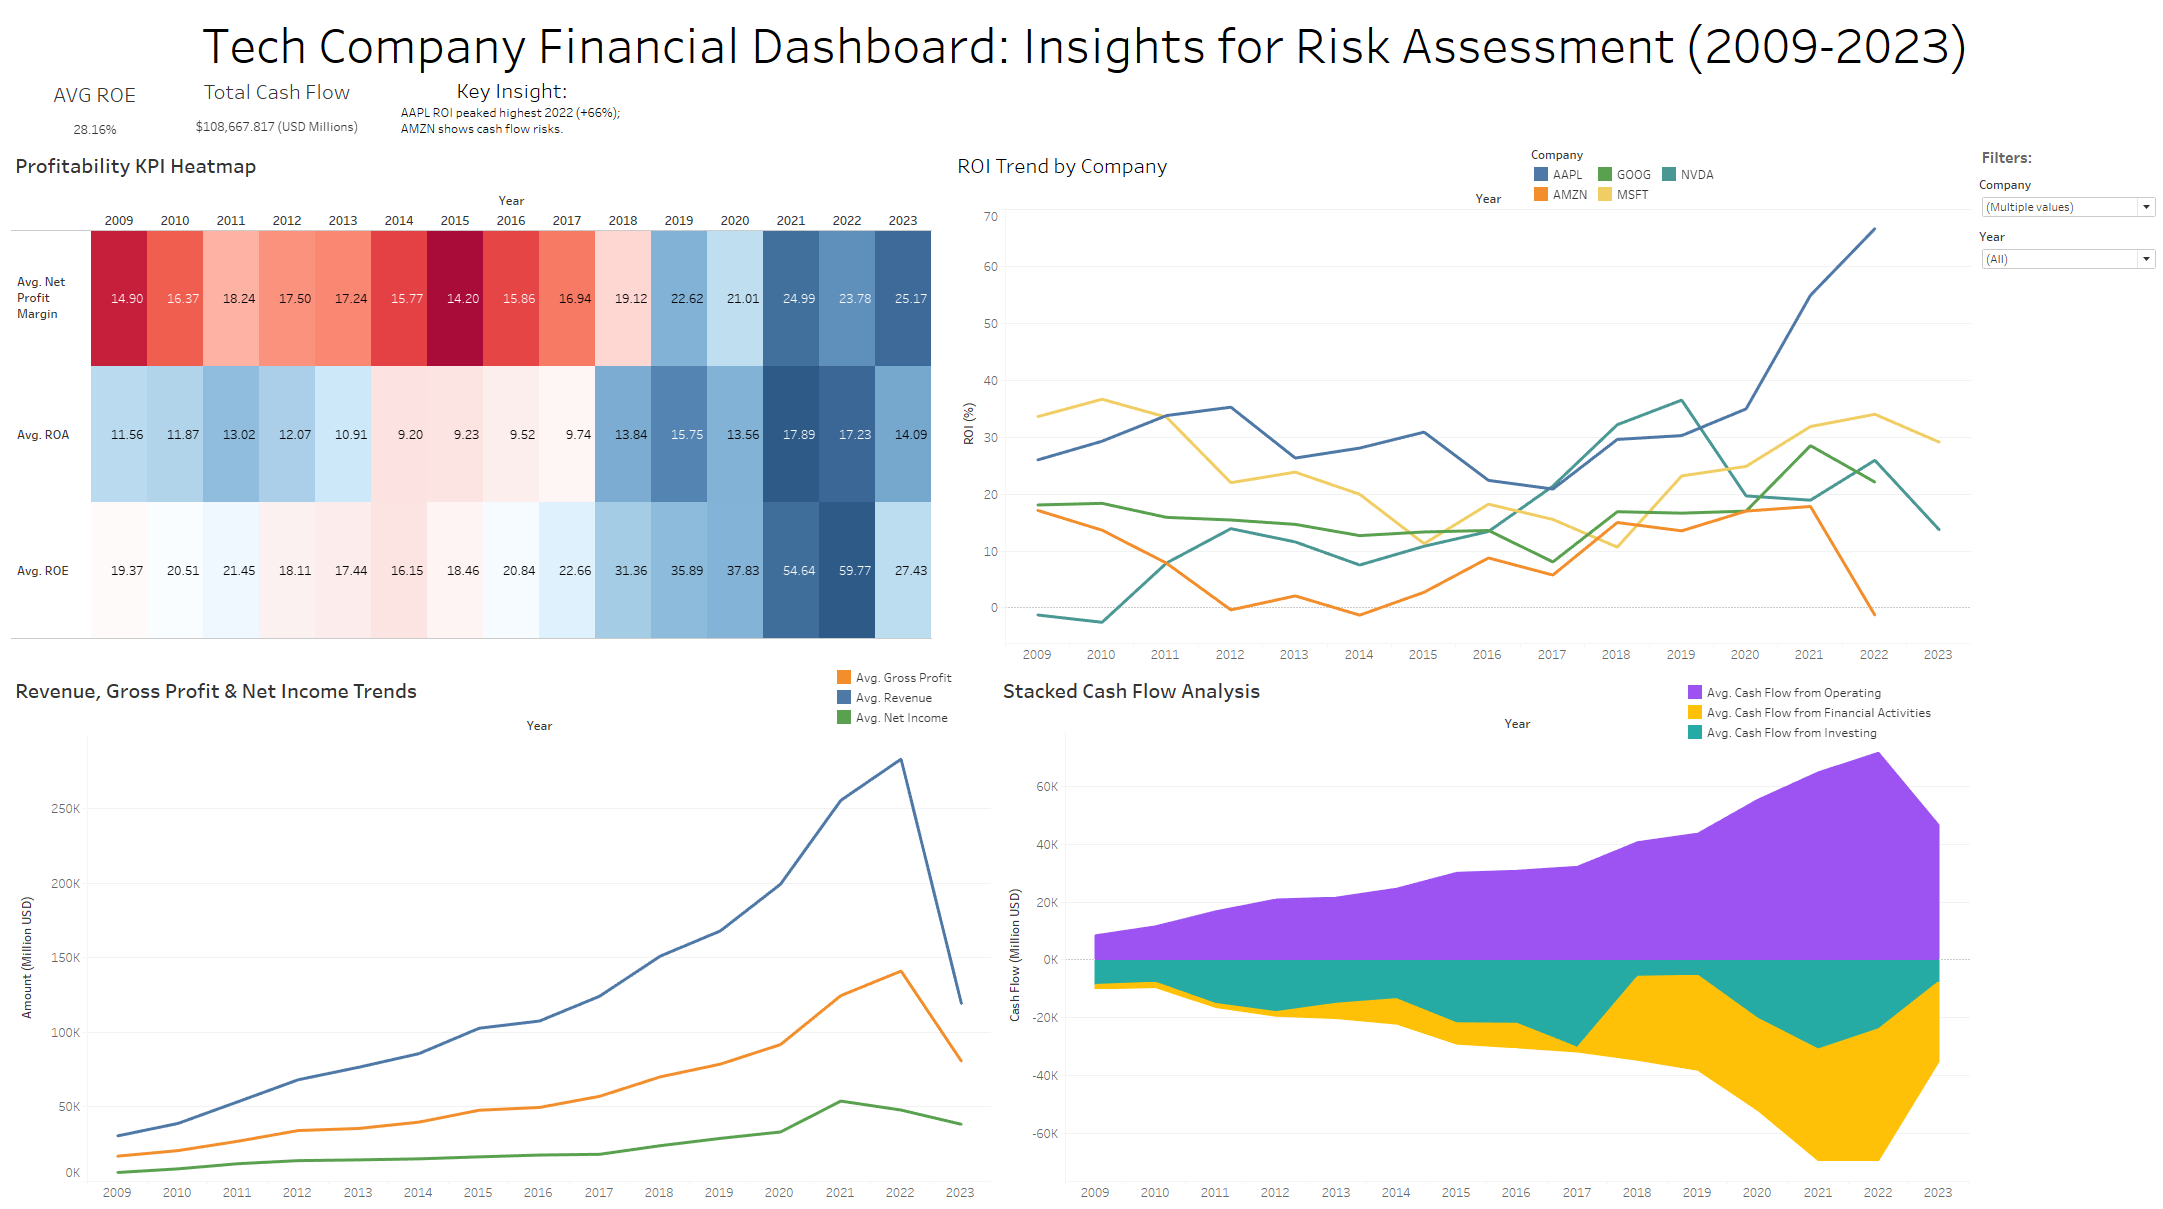

The page's visual inventory and layout, read from the dashboard file:
{"tool":"tableau","page":{"name":"Dashboard 1","canvas":[1000,1000],"units":"permille","ordinal":0},"visuals":[{"type":"title","box":[3.4,6.6,993.2,61.7]},{"type":"text","box":[183.7,59.2,105,60.9]},{"type":"worksheet","title":"Total Cash Flow KPI","mark":"Automatic","box":[87.2,61.7,87.7,74.8]},{"type":"worksheet","title":"Return On Equity KPI","mark":"Text","box":[3.7,64.1,87.7,57.6]},{"type":"blank","box":[3.4,68.3,993.2,51]},{"type":"worksheet","title":"Profitability KPI Heatmap","mark":"Square","cols":["Year"],"box":[3.4,119.2,437.2,411.2]},{"type":"worksheet","title":"ROI Trend by Company","mark":"Line","rows":["ROI"],"cols":["Year"],"box":[440.6,119.2,475.9,431.7]},{"type":"text","box":[916.6,119.2,80,23.9]},{"type":"legend","title":"ROI Trend by Company","param":"[federated.0064y0e0k068s611r8hgi0s42lcm].[none:Company :nk]","box":[705.2,121.7,188.4,61.7]},{"type":"filter","title":"Revenue, Gross Profit & Net Income Trends","param":"[federated.0064y0e0k068s611r8hgi0s42lcm].[none:Company :nk]","box":[916.6,143.1,80,42.8]},{"type":"filter","title":"Revenue, Gross Profit & Net Income Trends","param":"[federated.0064y0e0k068s611r8hgi0s42lcm].[yr:Year:ok]","box":[916.6,185.9,80,42.8]},{"type":"blank","box":[916.6,228.6,80,764.8]},{"type":"legend","title":"Revenue, Gross Profit & Net Income Trends","param":"[federated.0064y0e0k068s611r8hgi0s42lcm].[:Measure Names]","box":[384.3,550.2,65.3,49.3]},{"type":"worksheet","title":"Revenue, Gross Profit & Net Income Trends","mark":"Line","cols":["Year"],"box":[3.4,551,458.7,442.4]},{"type":"worksheet","title":"Stacked Cash Flow Analysis","mark":"Area","cols":["Year"],"box":[462.1,551,454.4,442.4]},{"type":"legend","title":"Stacked Cash Flow Analysis","param":"[federated.0064y0e0k068s611r8hgi0s42lcm].[:Measure Names]","box":[776.1,562.5,117.1,49.3]}]}

Visuals, with their boxes on the dashboard's canvas, which has no fixed pixel size, in thousandths of its width and height (x1, y1, x2, y2). These are canvas units, not pixel positions in the 2163x1209 screenshot, which may show the page scaled, cropped or inside an application window:
title: bbox=(3, 7, 997, 68)
text: bbox=(184, 59, 289, 120)
"Total Cash Flow KPI" worksheet: bbox=(87, 62, 175, 136)
"Return On Equity KPI" worksheet (Text marks): bbox=(4, 64, 91, 122)
blank: bbox=(3, 68, 997, 119)
"Profitability KPI Heatmap" worksheet (Square marks): bbox=(3, 119, 441, 530)
"ROI Trend by Company" worksheet (Line marks): bbox=(441, 119, 916, 551)
text: bbox=(917, 119, 997, 143)
"ROI Trend by Company" legend: bbox=(705, 122, 894, 183)
"Revenue, Gross Profit & Net Income Trends" filter: bbox=(917, 143, 997, 186)
"Revenue, Gross Profit & Net Income Trends" filter: bbox=(917, 186, 997, 229)
blank: bbox=(917, 229, 997, 993)
"Revenue, Gross Profit & Net Income Trends" legend: bbox=(384, 550, 450, 600)
"Revenue, Gross Profit & Net Income Trends" worksheet (Line marks): bbox=(3, 551, 462, 993)
"Stacked Cash Flow Analysis" worksheet (Area marks): bbox=(462, 551, 916, 993)
"Stacked Cash Flow Analysis" legend: bbox=(776, 562, 893, 612)
